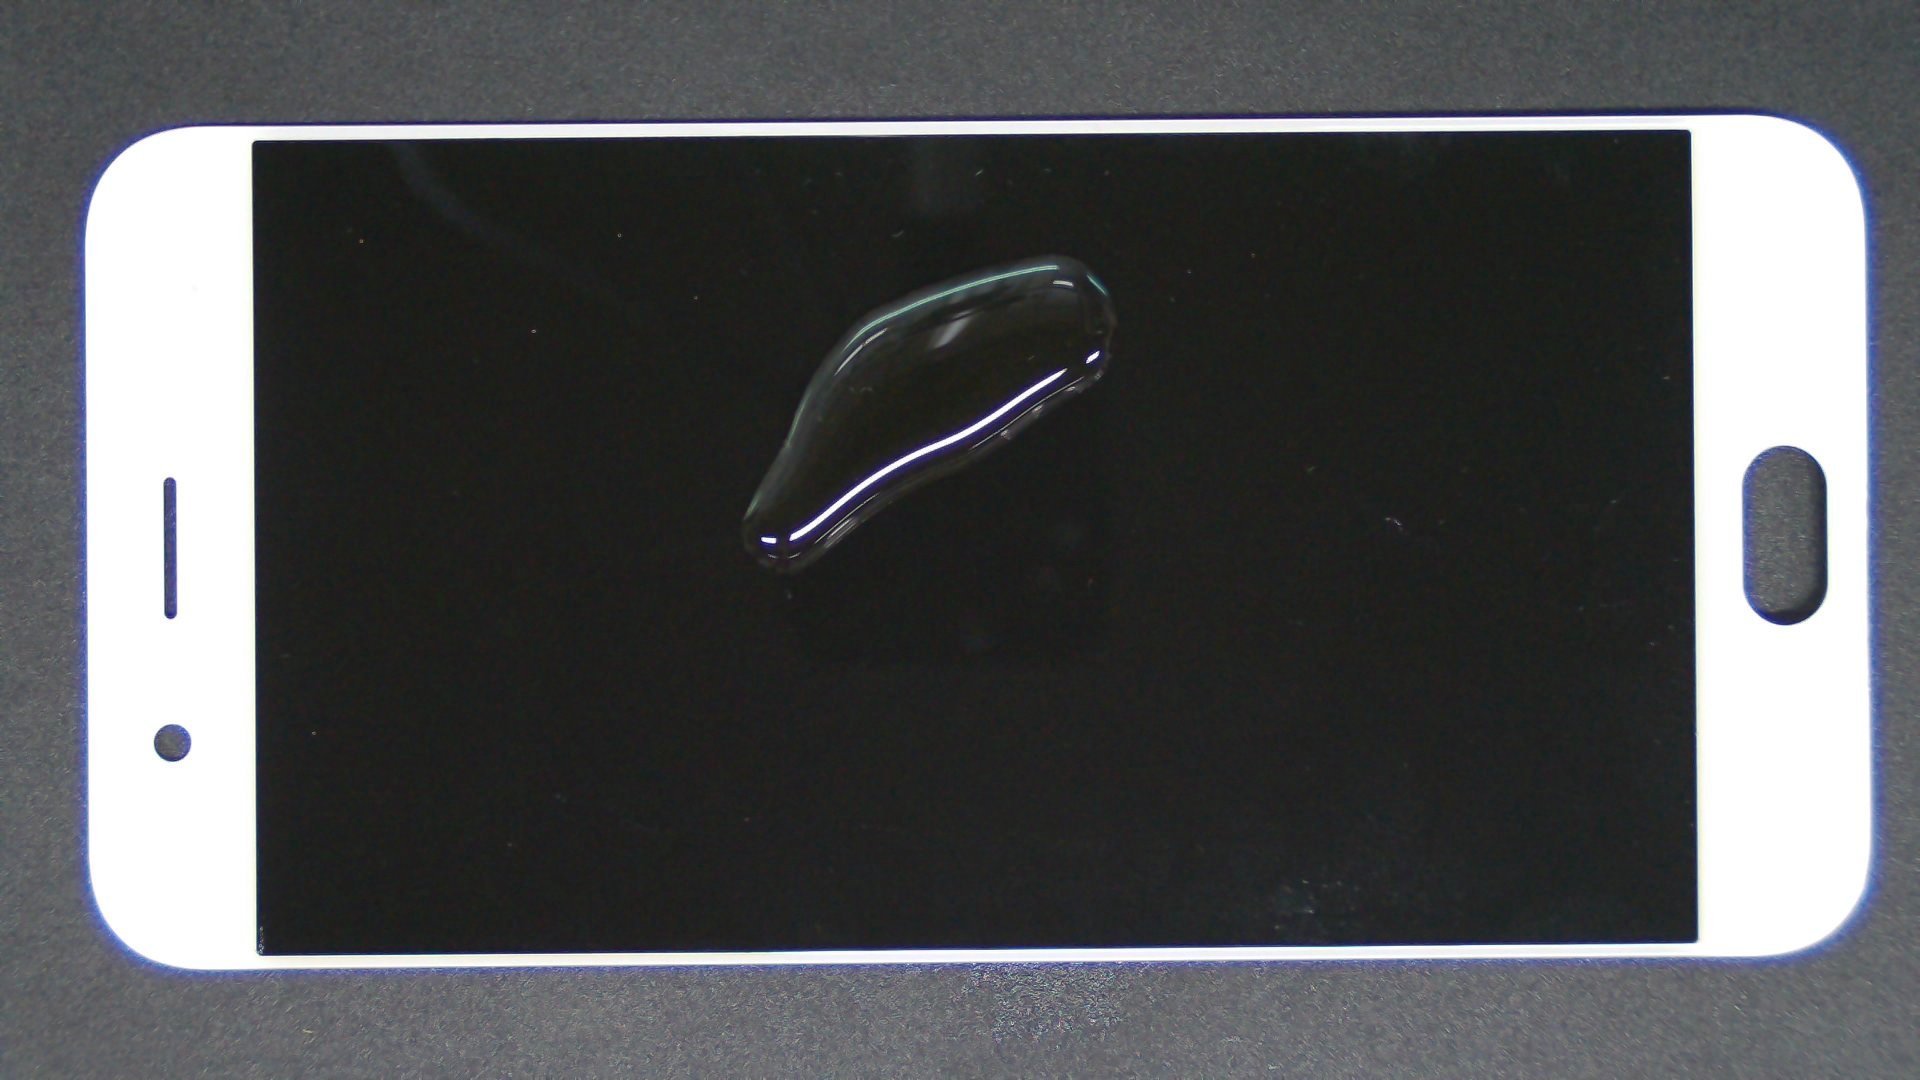oil: (526, 127, 1577, 381)
